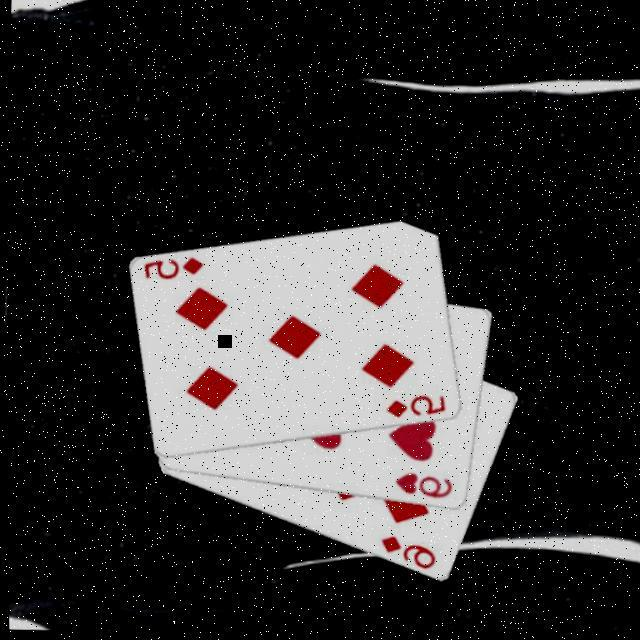5D: (381, 389, 446, 422), (137, 251, 204, 282)
6H: (389, 469, 452, 502)
9D: (374, 531, 436, 573)
